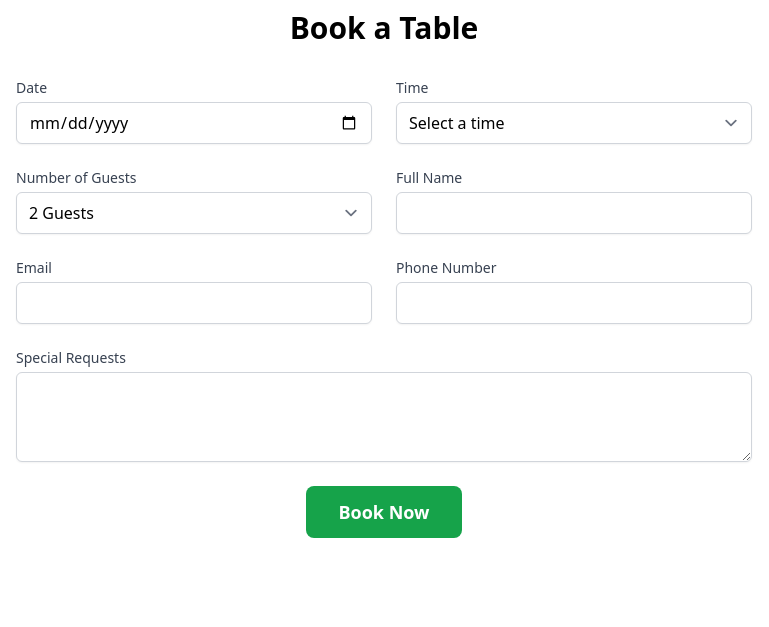
Test case: Booking Component › validates email format
The width and height of the screenshot is (769, 627).
Type "invalid-email" into the field labelled "Email" at (194, 303), box [16, 282, 372, 324]
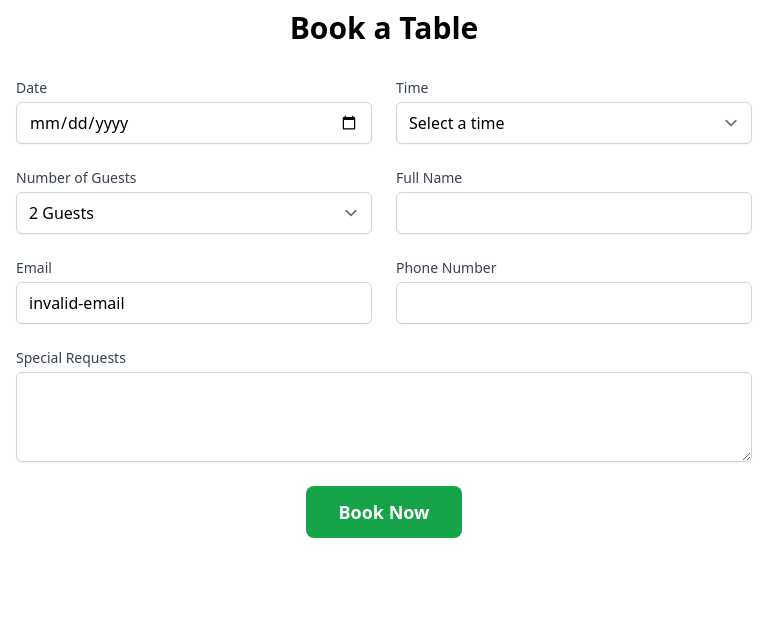
Click the button "Book Now" at (384, 512), box [306, 486, 462, 538]
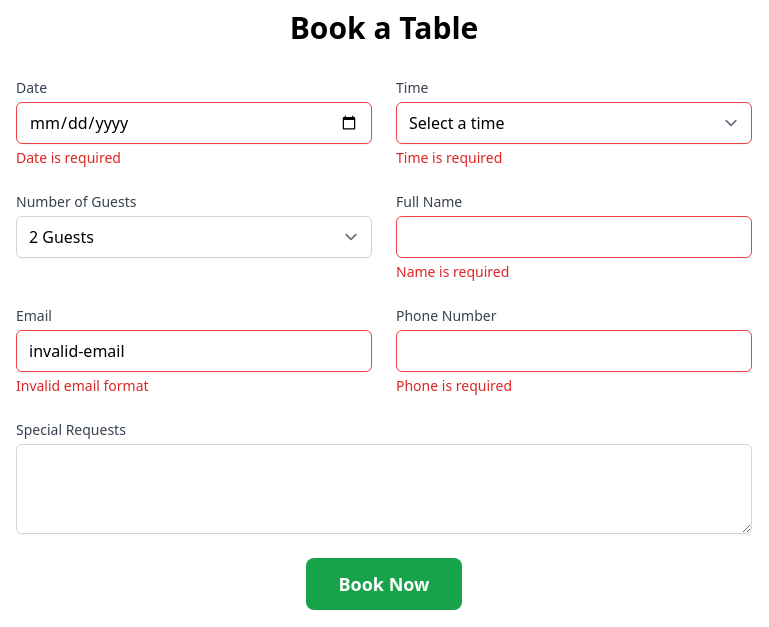
Expected: the text "Invalid email format" is shown, [16, 376, 149, 395]
